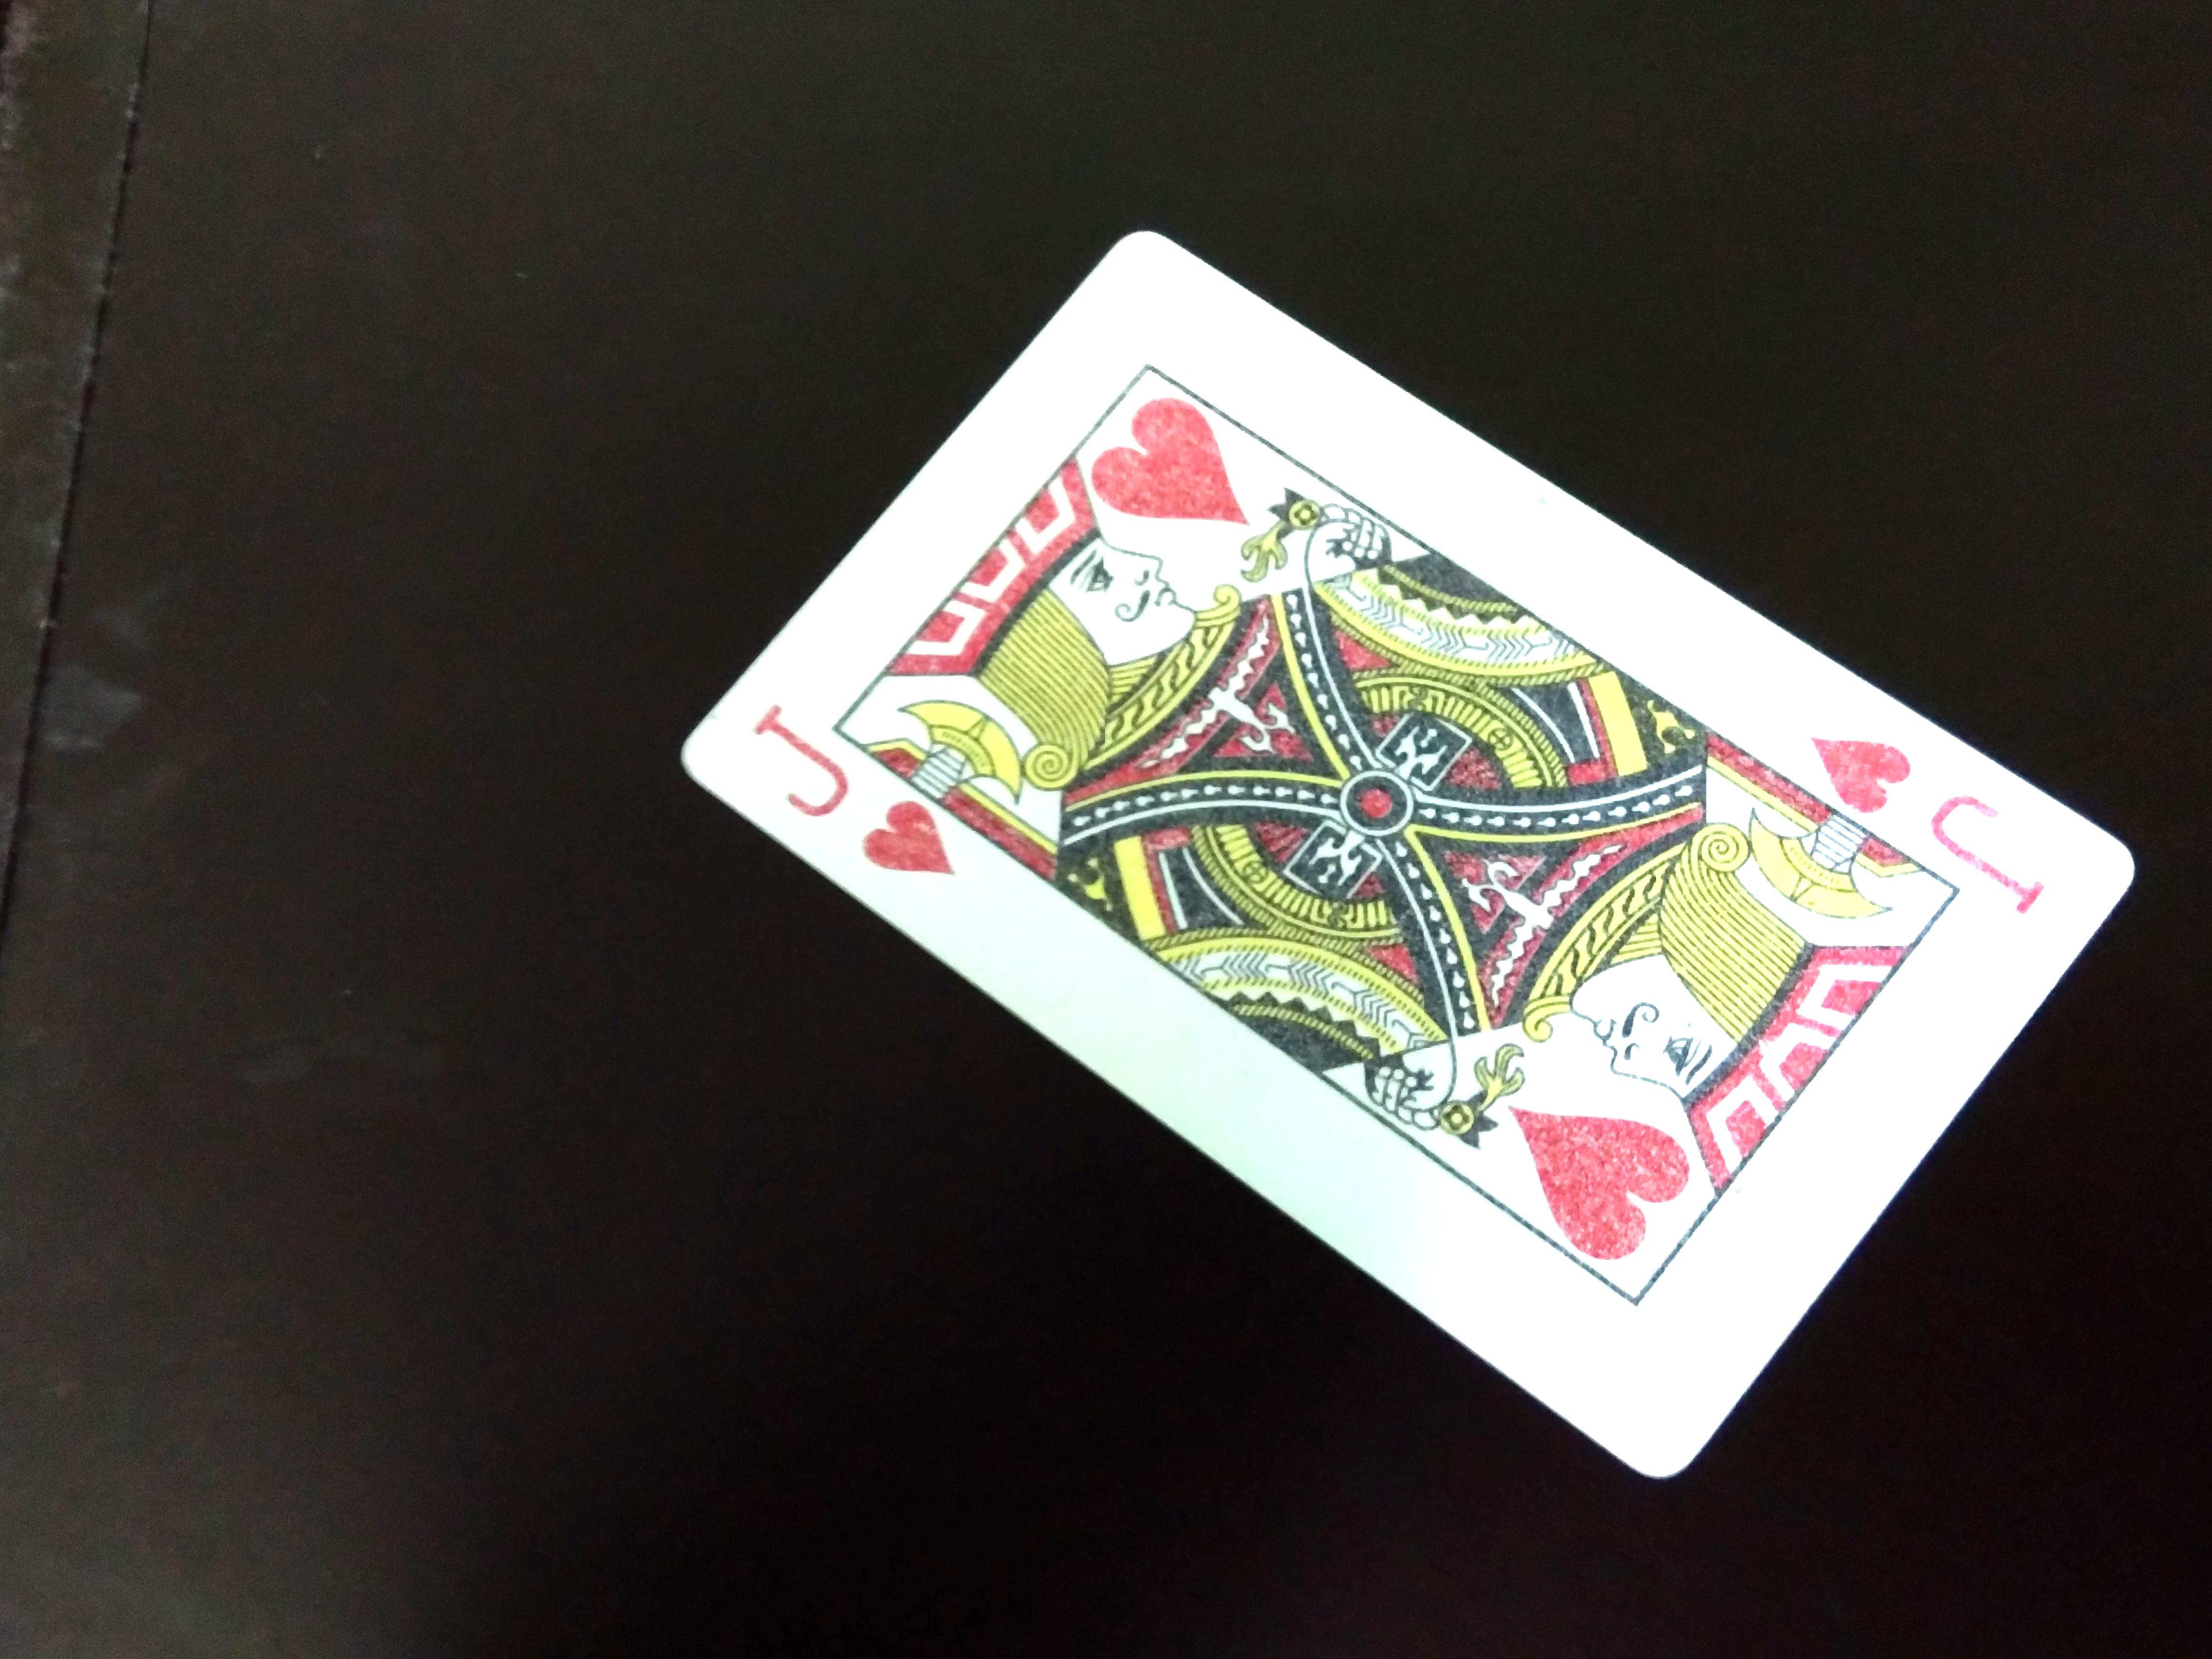JH: (1784, 713, 2043, 911)
